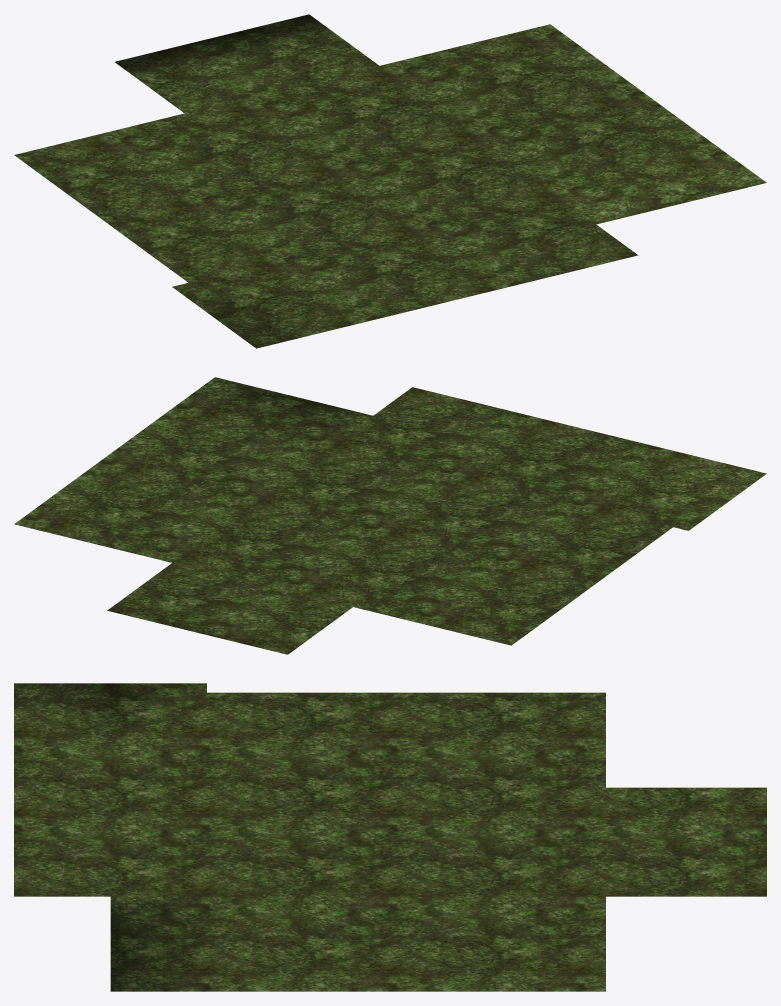
Rendered from OVERHILL_A_01_OBJECT74.fbx.
The picture shows the model from 3 angles, top to bottom: view 1: azimuth 30°, elevation 25°; view 2: azimuth 150°, elevation 25°; view 3: azimuth 270°, elevation 25°; orthographic projection. The views are drawn at different scales.
Parts seen in each view (by area): view 1: OVERHILL_A_01_OBJECT74; view 2: OVERHILL_A_01_OBJECT74; view 3: OVERHILL_A_01_OBJECT74.
Boxes of the visible parts, <box> form: OVERHILL_A_01_OBJECT74: <box>14,14,766,348</box>; OVERHILL_A_01_OBJECT74: <box>14,377,766,654</box>; OVERHILL_A_01_OBJECT74: <box>14,683,766,991</box>.
Size of the model in its own units: 113406 by 0.0466 by 117003.
Materials: 1 (1 with a texture image).
